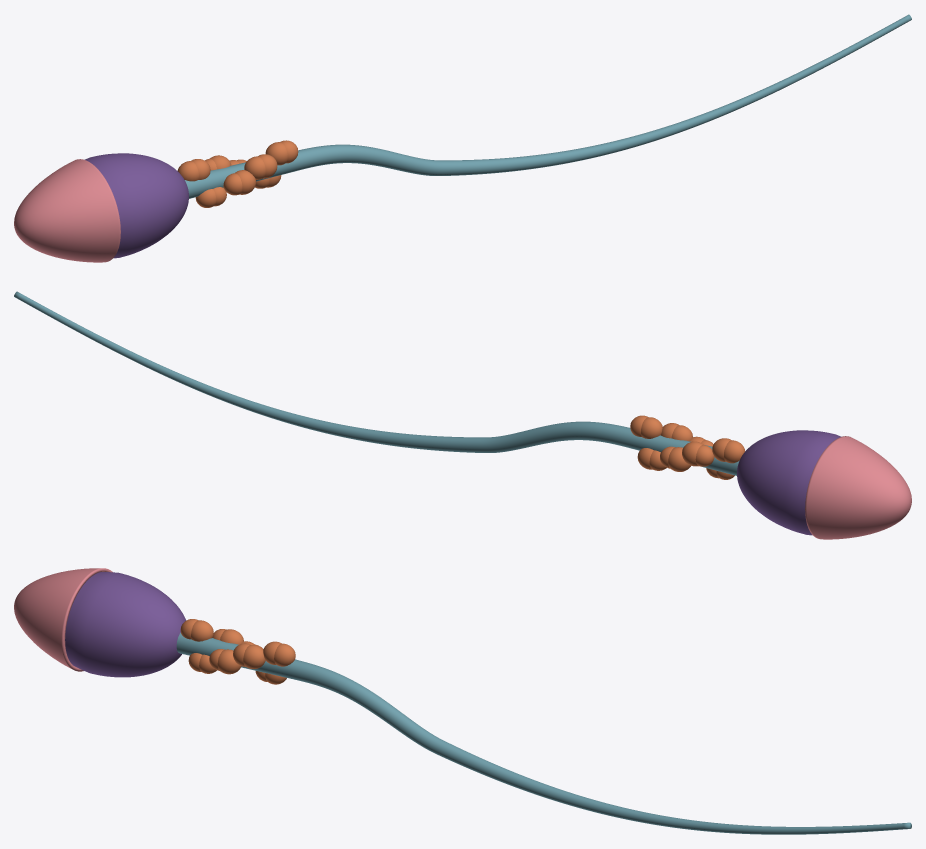
Rendered from sperm-cell.glb.
The picture shows the model from 3 angles, top to bottom: view 1: azimuth 30°, elevation 25°; view 2: azimuth 150°, elevation 25°; view 3: azimuth 330°, elevation 25°; orthographic projection.
Parts seen in each view (by area): view 1: flagellum.001, acrosome, nucleus.001, mitochondria; view 2: flagellum.001, acrosome, nucleus.001, mitochondria; view 3: nucleus.001, flagellum.001, acrosome, mitochondria.
Boxes of the visible parts, x1,y1,x2,y2 form: flagellum.001: (185,14,911,198); acrosome: (14,159,120,262); nucleus.001: (84,153,188,258); mitochondria: (177,140,298,207); flagellum.001: (14,291,739,475); acrosome: (805,436,911,539); nucleus.001: (737,430,841,535); mitochondria: (630,415,745,479); nucleus.001: (65,572,186,677); flagellum.001: (176,633,911,834); acrosome: (14,568,112,671); mitochondria: (180,619,295,684).
Bounding box in the file's own units: 9.11 × 1.13 × 1.02.
